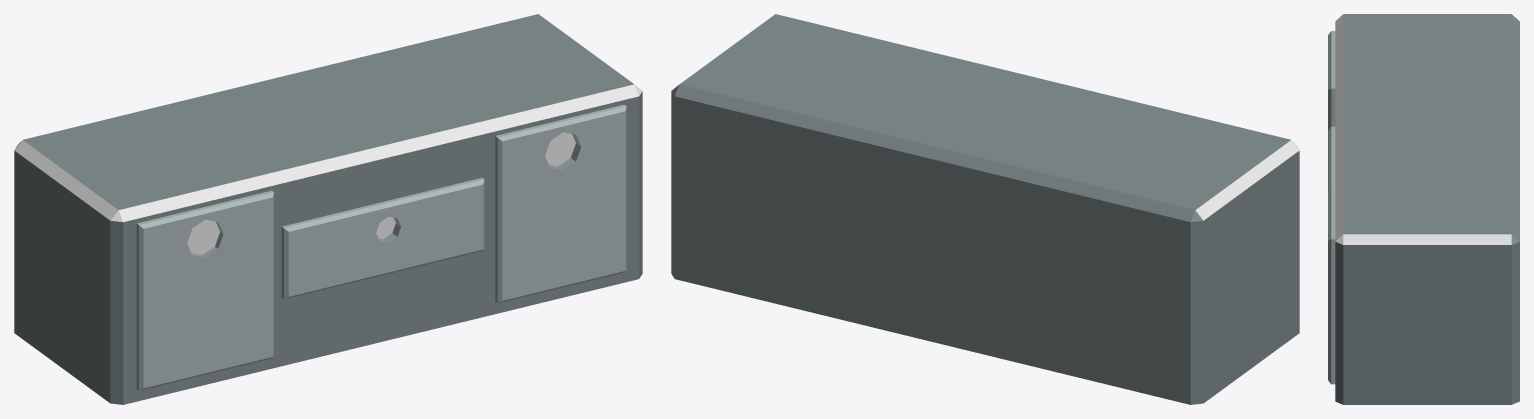
File: Cabinet-5.fbx
The picture shows the model from 3 angles, left to right: view 1: azimuth 30°, elevation 25°; view 2: azimuth 150°, elevation 25°; view 3: azimuth 270°, elevation 25°; orthographic projection. The views are drawn at different scales.
Visible parts, largest first — view 1: Cabinet-5; view 2: Cabinet-5; view 3: Cabinet-5.
Boxes of the visible parts, box(x1,y1,x2,y2) form: Cabinet-5: box(14, 14, 642, 404); Cabinet-5: box(671, 14, 1299, 404); Cabinet-5: box(1328, 14, 1519, 404).
Bounding box in the file's own units: 2.91 × 1 × 1.04.
